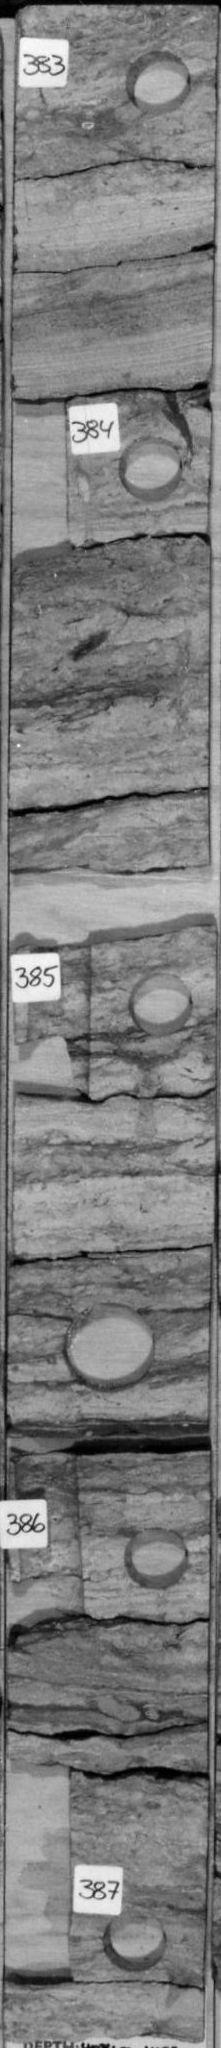hplug: (115, 1518, 197, 1597), (122, 963, 197, 1042), (112, 434, 190, 508), (98, 1903, 174, 1976), (119, 46, 194, 116)
scal: (55, 1290, 163, 1398)
vplug: (1, 1757, 81, 1998), (7, 1454, 89, 1637), (3, 387, 78, 566), (24, 944, 98, 1112)
